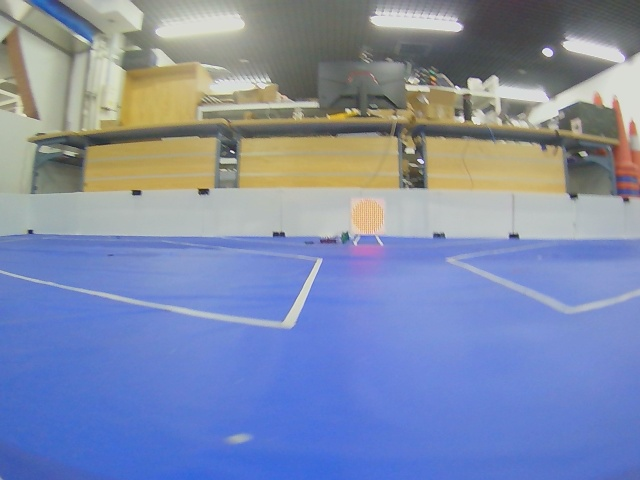red: (351, 198, 385, 235)
